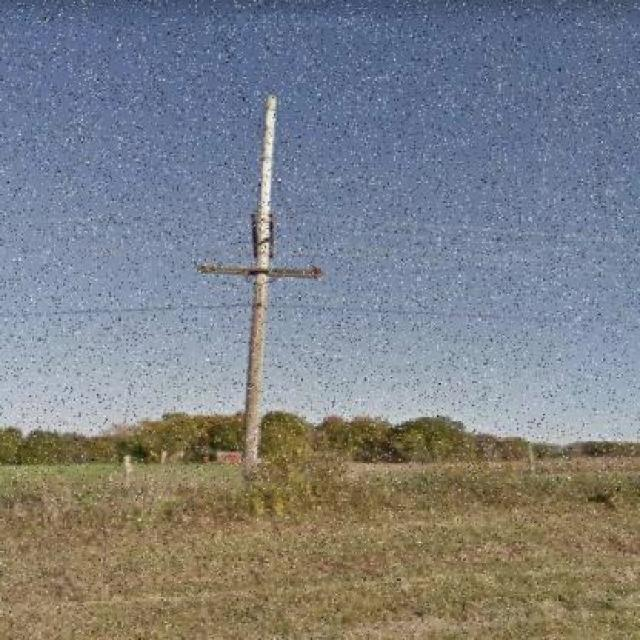crossarm: (198, 263, 322, 275)
pole: (240, 95, 288, 468)
wire: (0, 299, 640, 325)
